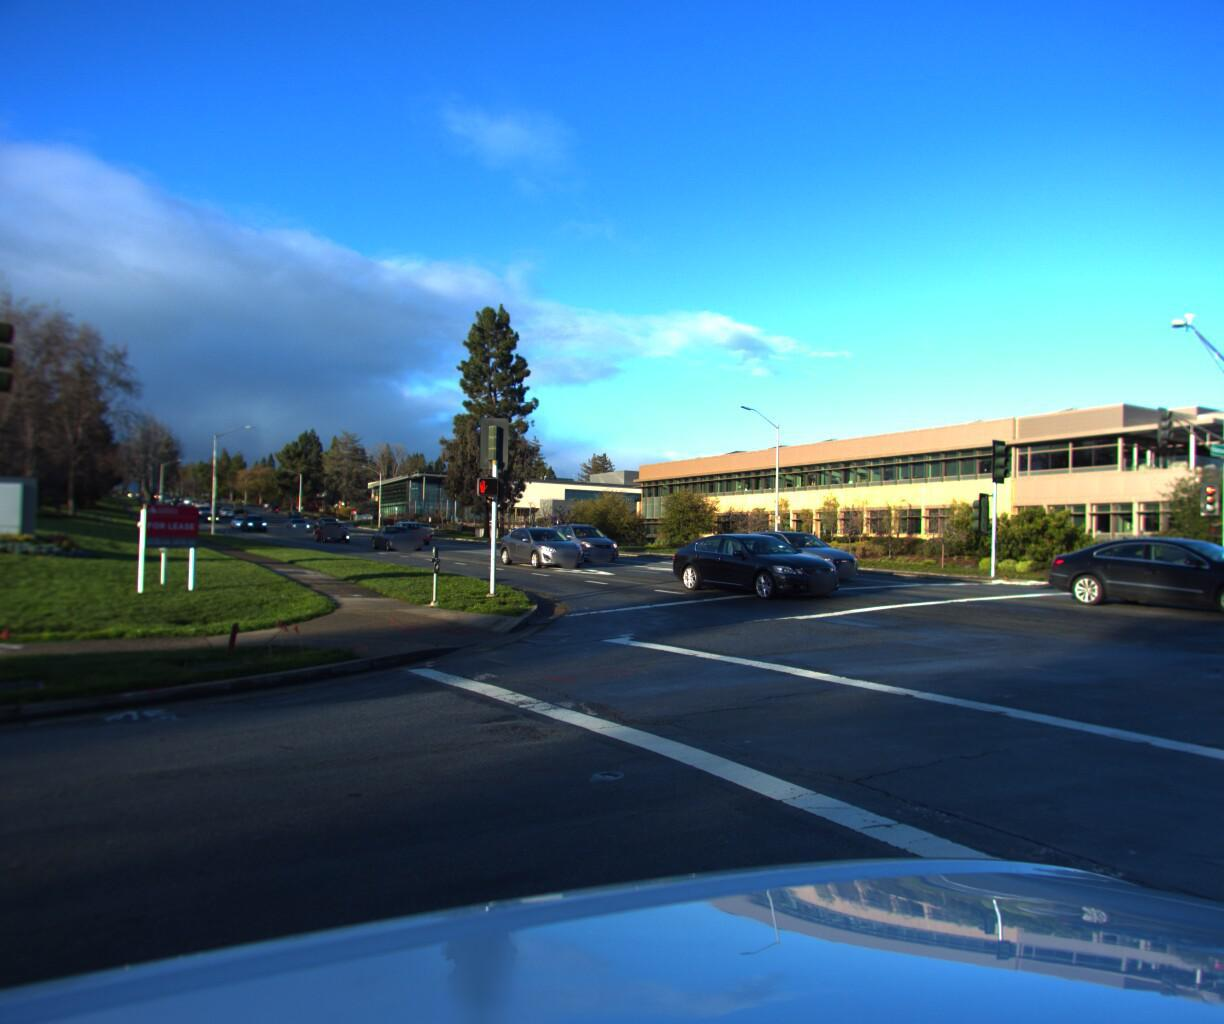car: (1037, 531, 1224, 620), (664, 531, 848, 602), (729, 527, 867, 579), (493, 523, 594, 567), (540, 521, 626, 561), (373, 521, 430, 549), (394, 519, 437, 545), (315, 517, 354, 539)
